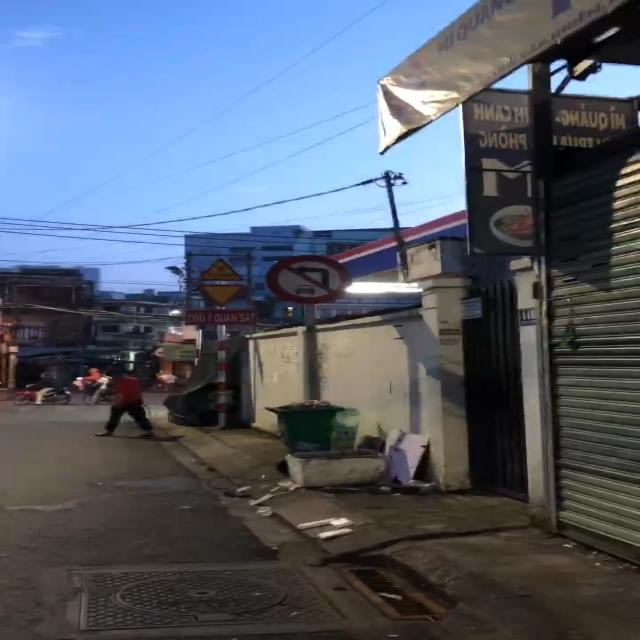Bien bao cam xe o to re trai: (265, 253, 361, 305)
Bien bao giao nhau voi duong uu tien: (193, 280, 249, 310)
